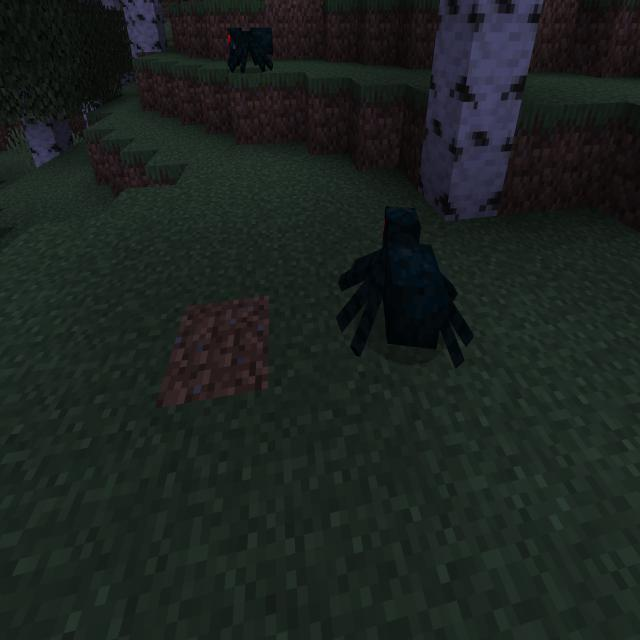Cave Spider: (335, 202, 474, 370), (225, 22, 275, 75)
